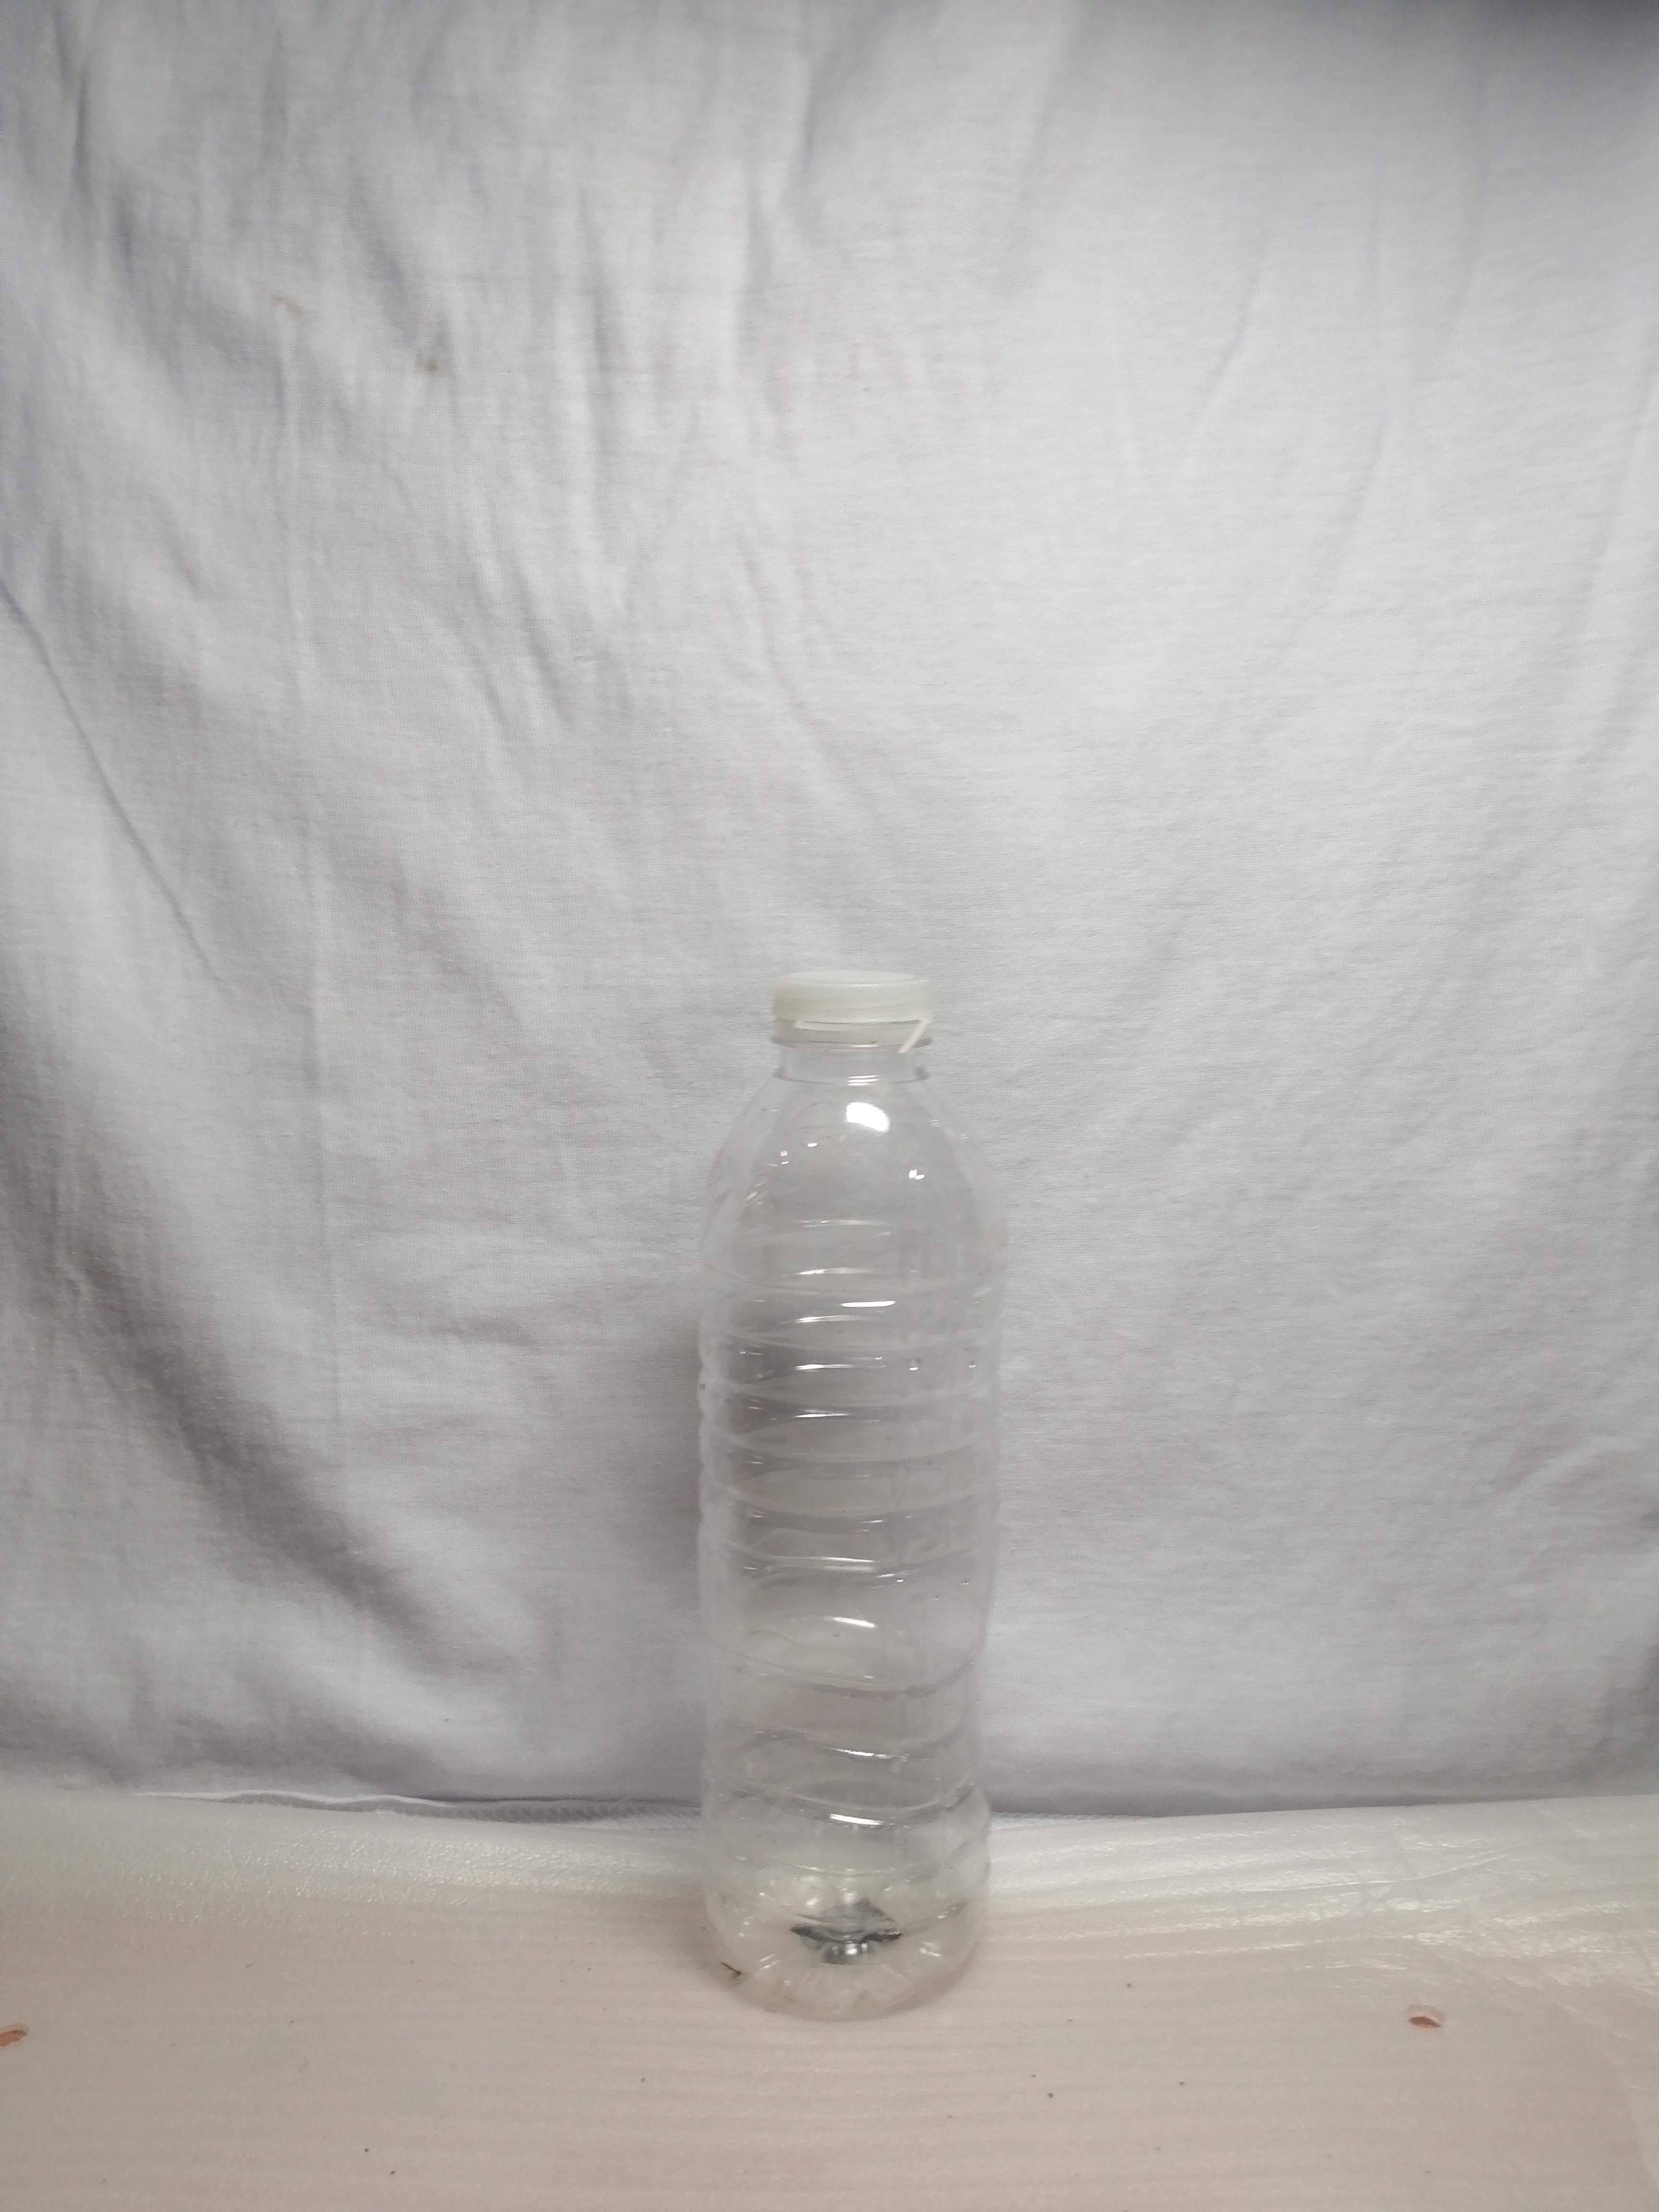plastic-bottle: (581, 874, 1037, 2050)
